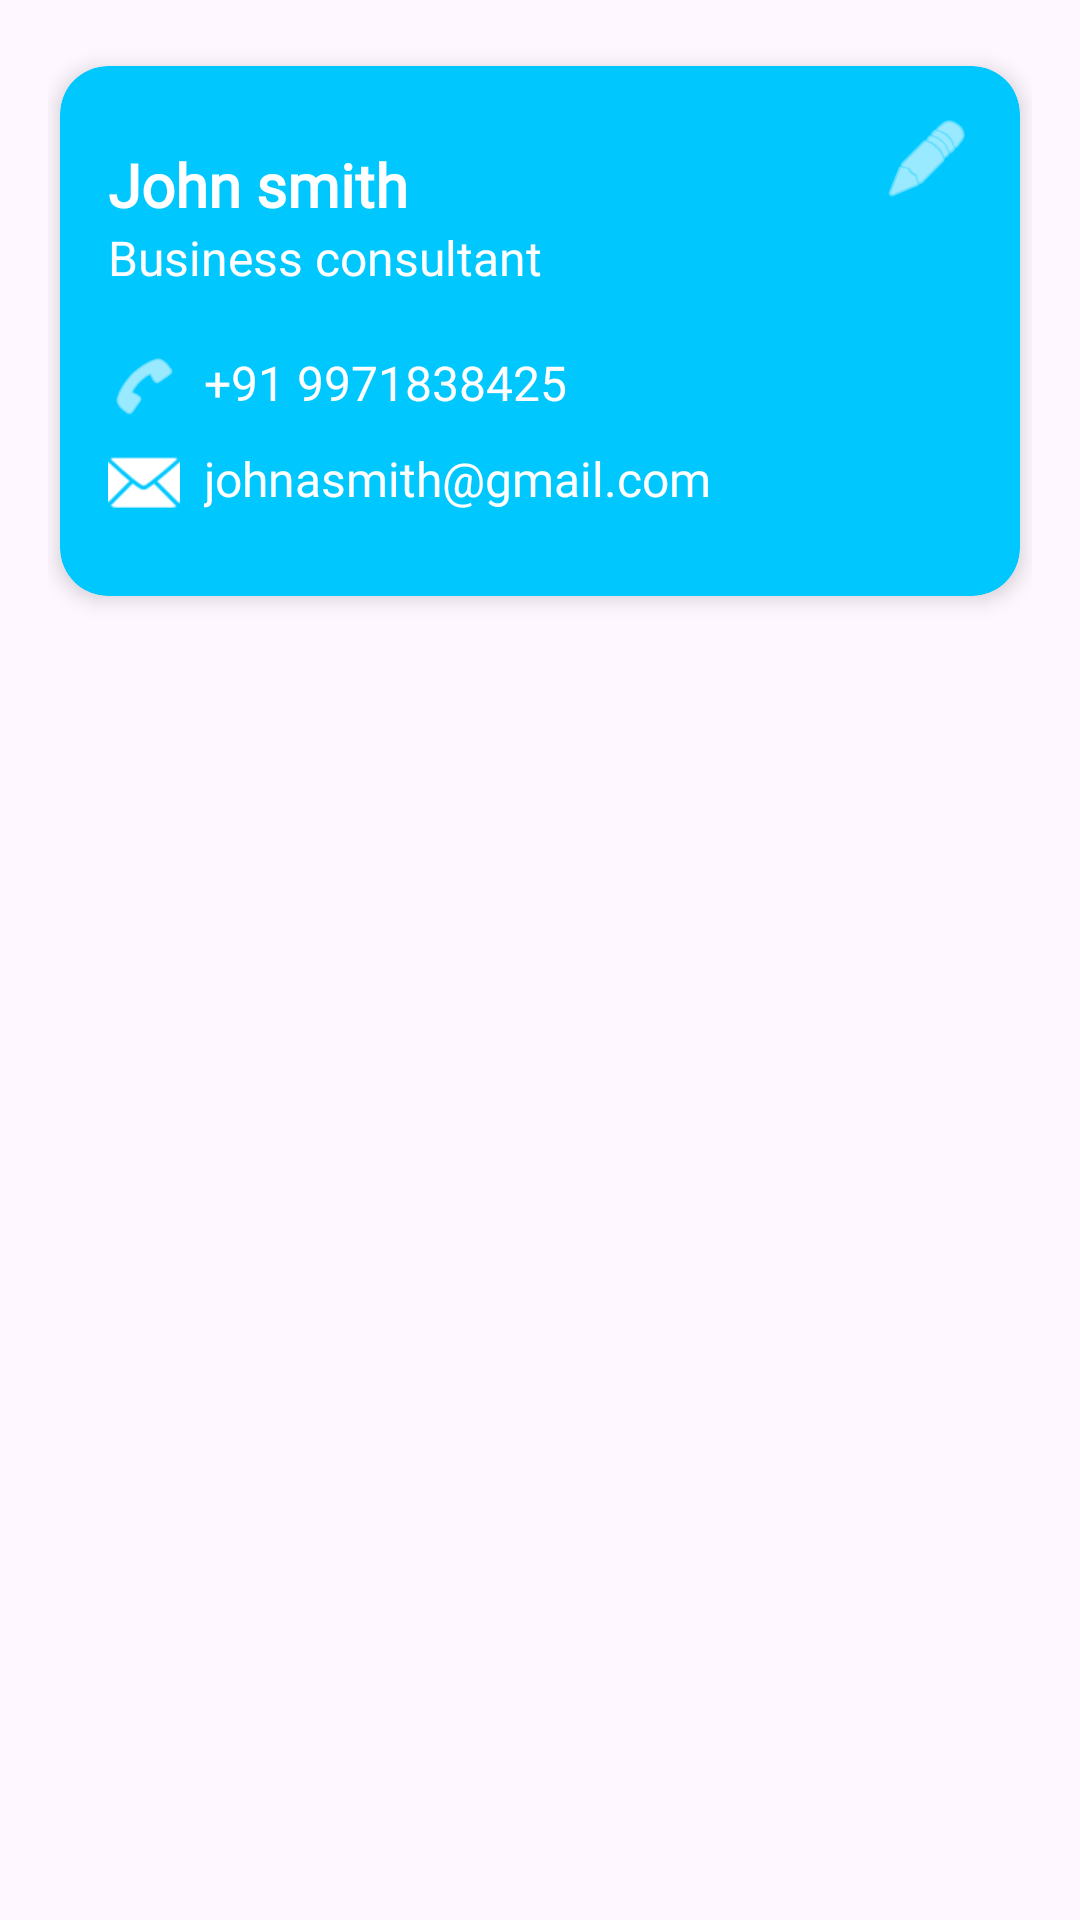

Icons on this 1080 x 1920 Android screen, each with the point to tap as (x=x, y=y):
call: (x=144, y=386)
edit: (x=926, y=158)
email: (x=144, y=482)
